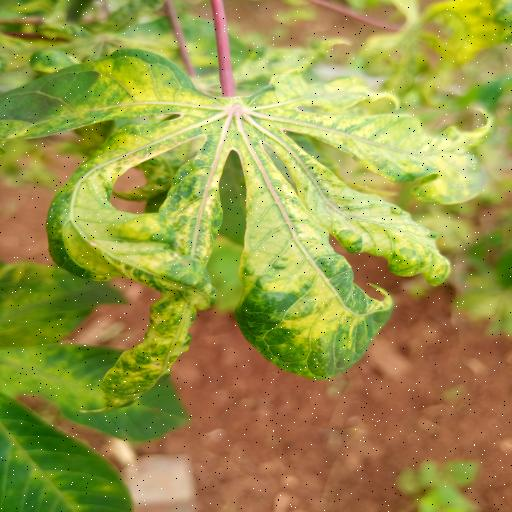Cassava_Mosaic: (2, 41, 506, 415)
